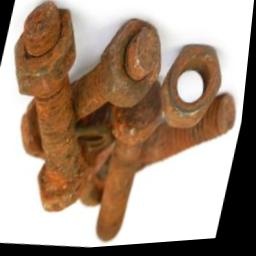Corroded-Nut: (161, 46, 224, 132)
Corroded-Nut-and-Bolt: (15, 0, 99, 212)
